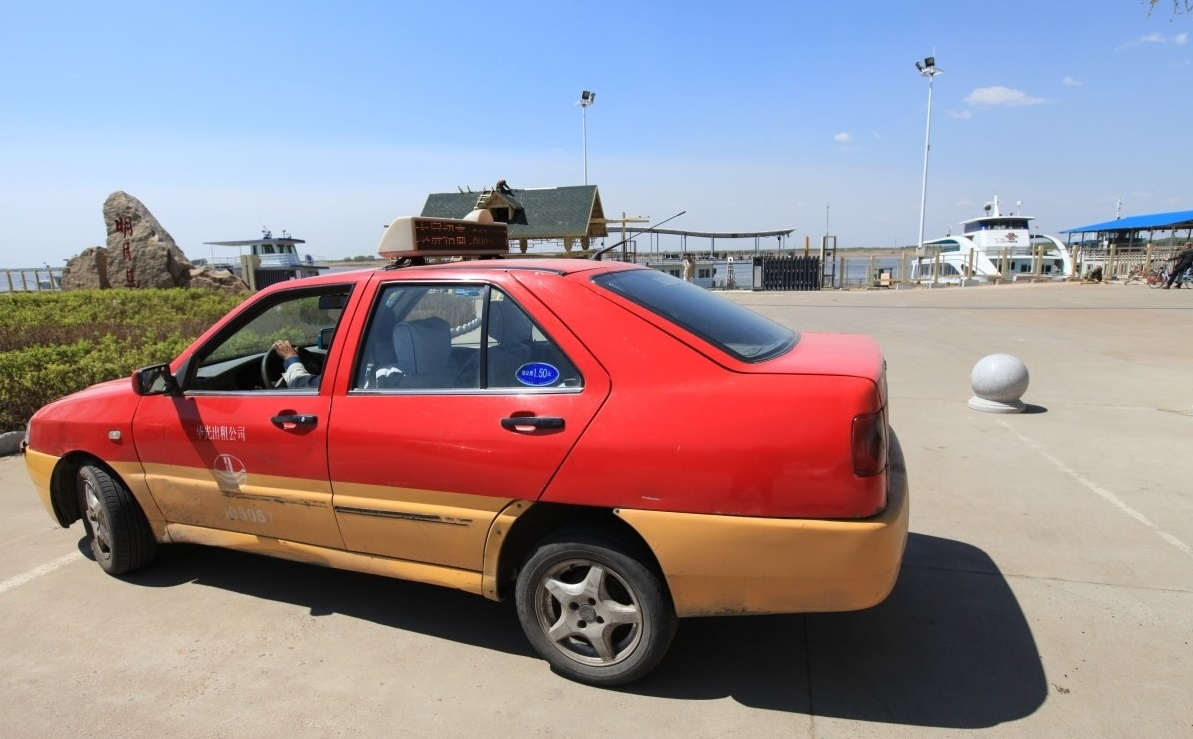family sedan: (24, 252, 914, 678)
